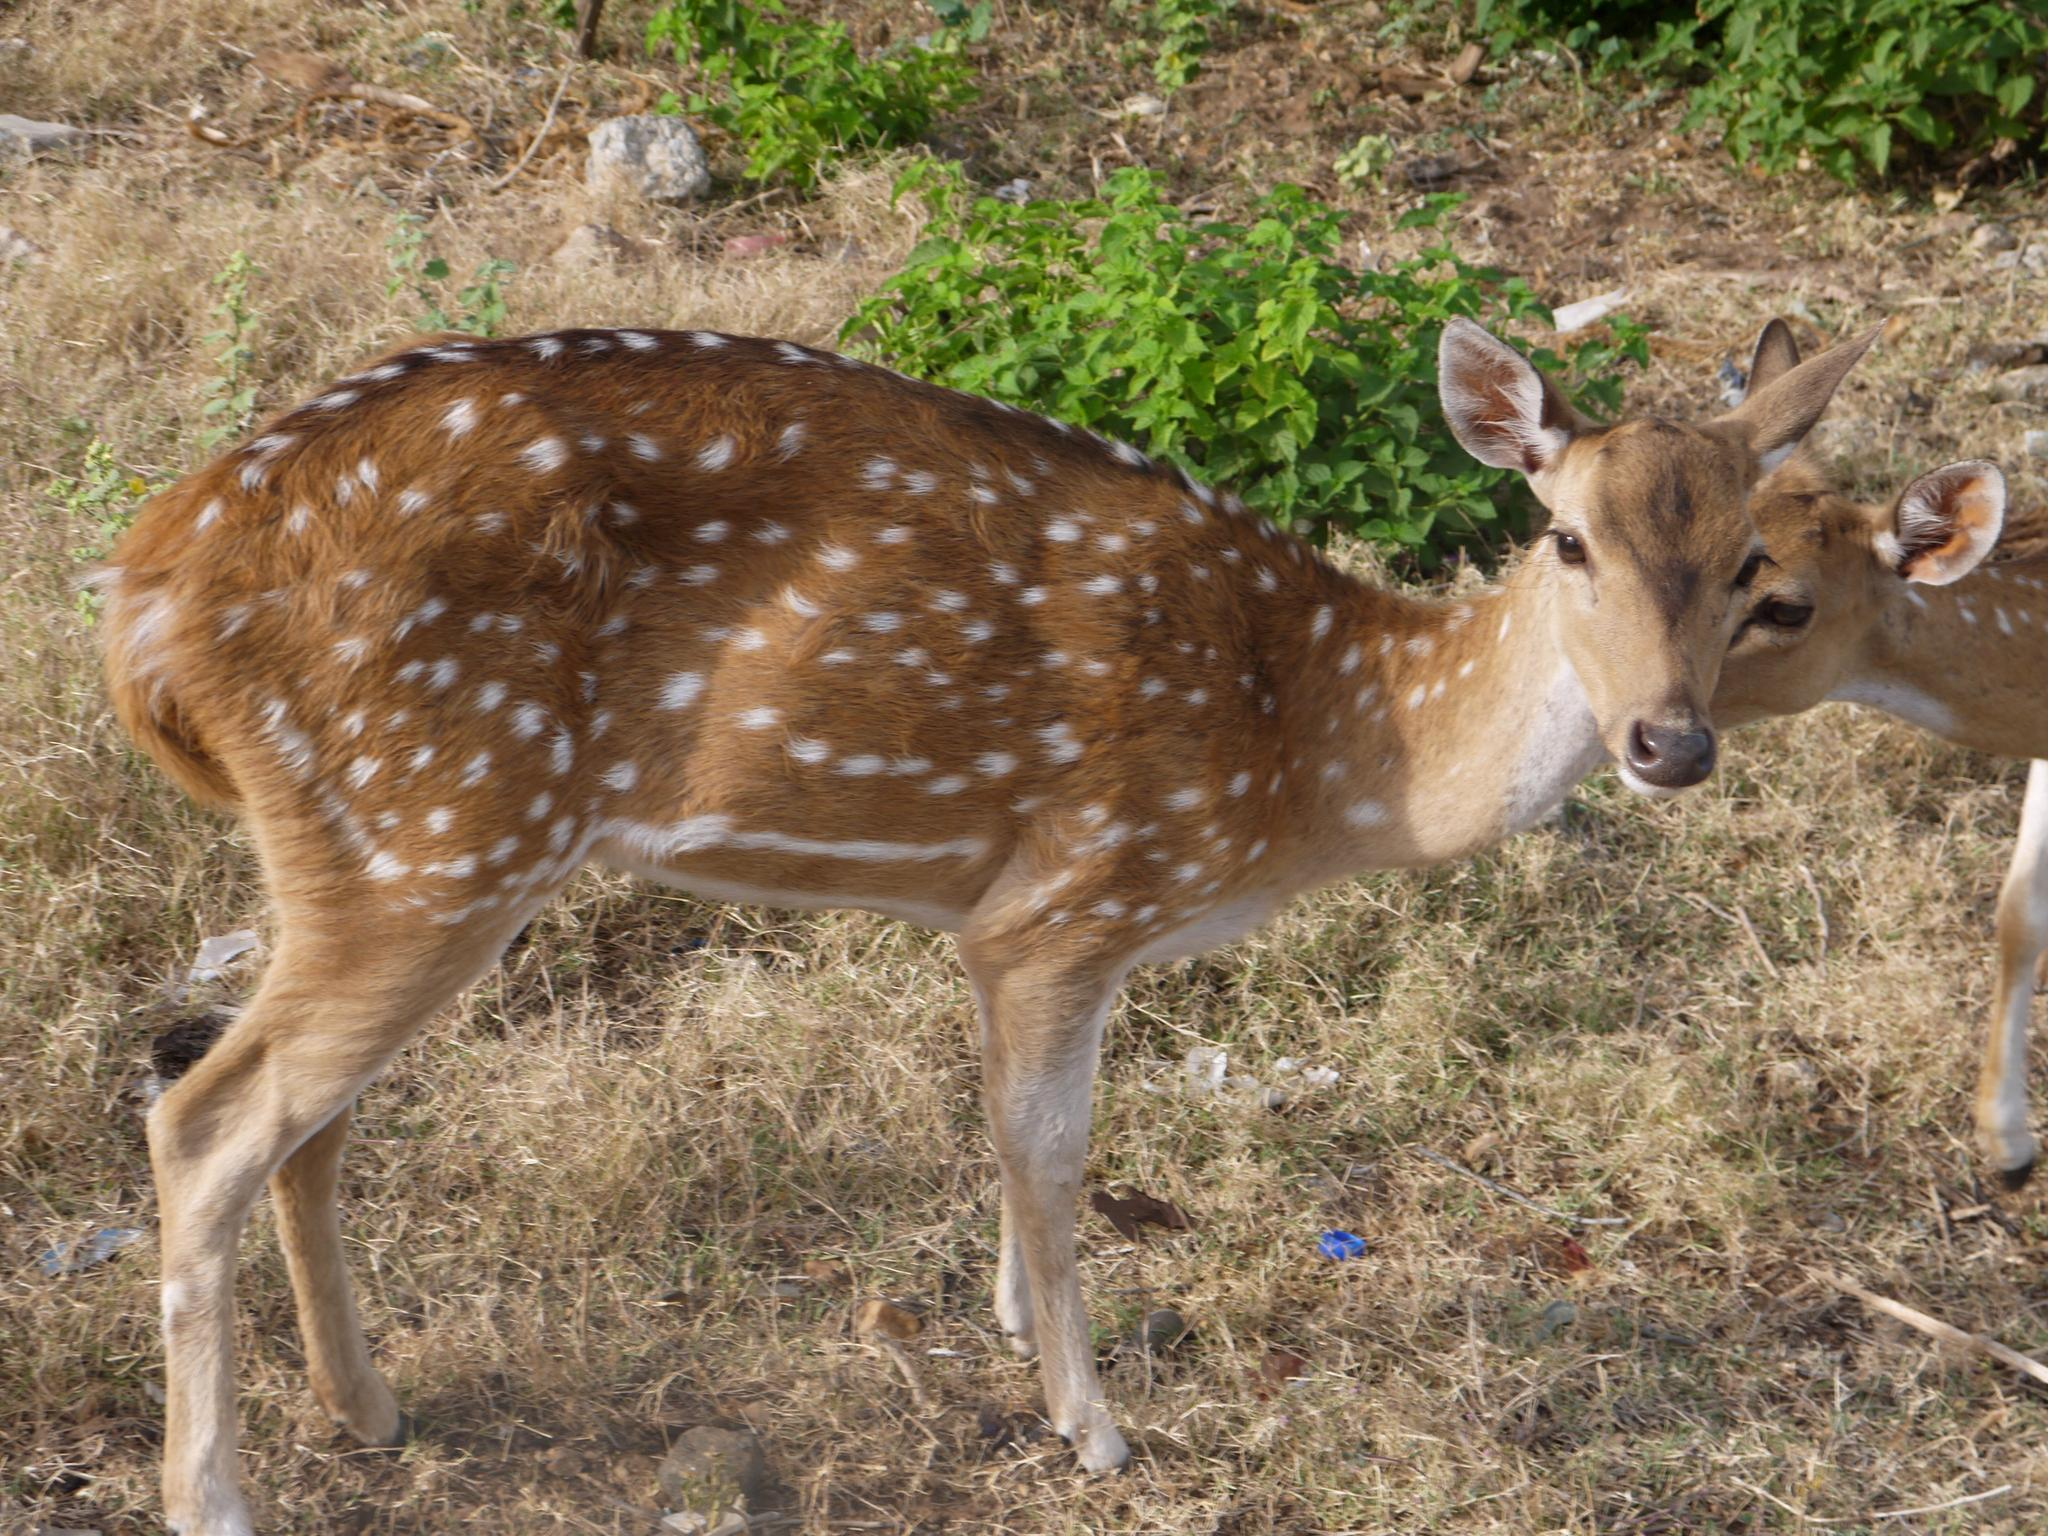Deer: (103, 319, 1867, 1534), (1709, 449, 2046, 1173)
